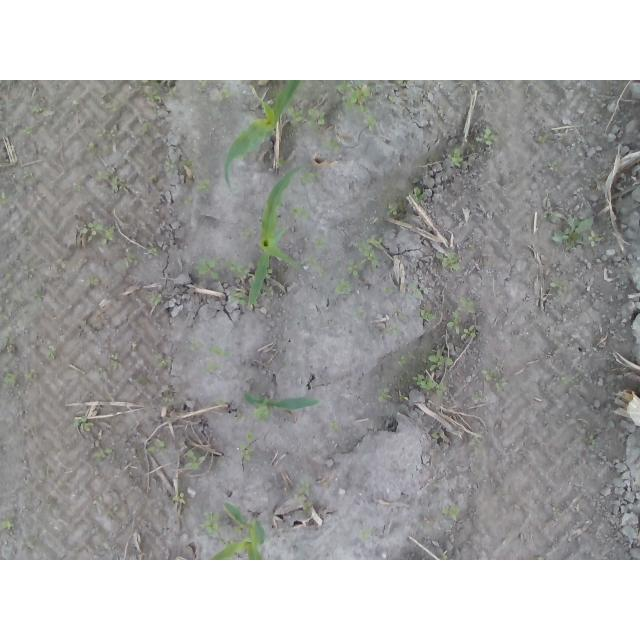Maize: (225, 81, 303, 192), (247, 166, 302, 306), (206, 504, 267, 561), (242, 392, 319, 413)
Weeds: (552, 216, 593, 251), (335, 81, 373, 112), (411, 372, 449, 396), (81, 220, 116, 244), (94, 170, 126, 193), (481, 368, 507, 396), (354, 240, 379, 269), (223, 258, 254, 279), (354, 105, 378, 132), (194, 256, 221, 280), (427, 350, 455, 371), (303, 253, 325, 277), (435, 250, 461, 270), (200, 511, 220, 537), (183, 450, 206, 470), (293, 479, 312, 501), (467, 429, 485, 452), (475, 128, 498, 145), (253, 405, 272, 424), (298, 171, 322, 186), (448, 147, 465, 168), (74, 416, 95, 433), (447, 309, 461, 334), (457, 296, 476, 314), (307, 107, 326, 125), (405, 284, 426, 300), (418, 306, 439, 322), (386, 199, 404, 217), (334, 277, 352, 295), (291, 204, 310, 221), (345, 258, 362, 276), (324, 135, 341, 153), (286, 107, 302, 126), (442, 507, 462, 522), (154, 354, 174, 369), (92, 447, 113, 461), (101, 91, 116, 110), (143, 87, 162, 102), (239, 445, 255, 462), (230, 291, 248, 306), (549, 280, 568, 294), (202, 360, 220, 374), (460, 325, 476, 340), (124, 253, 140, 268), (411, 186, 425, 203), (384, 324, 401, 338), (197, 179, 212, 194), (376, 387, 392, 401), (588, 230, 601, 247), (147, 440, 165, 452), (22, 264, 36, 279), (164, 160, 180, 173), (367, 235, 383, 248), (208, 347, 228, 357), (173, 491, 187, 505), (359, 528, 374, 541), (138, 118, 150, 134), (391, 307, 405, 320), (302, 501, 315, 515), (217, 90, 231, 103), (313, 236, 327, 249), (0, 517, 14, 530), (150, 291, 163, 305), (86, 141, 98, 156), (109, 354, 120, 370), (85, 277, 101, 288), (189, 340, 203, 352), (97, 130, 115, 139), (4, 372, 17, 384), (234, 522, 245, 536), (47, 345, 58, 359), (134, 377, 151, 386), (220, 539, 237, 548), (548, 212, 560, 224), (547, 160, 558, 173), (277, 156, 288, 169), (216, 397, 229, 408), (161, 395, 175, 405), (397, 357, 409, 368), (470, 393, 482, 404), (396, 391, 408, 402), (197, 81, 209, 92), (35, 291, 46, 303), (263, 285, 274, 297), (538, 133, 551, 143), (106, 505, 119, 515), (31, 106, 47, 114), (245, 431, 255, 443), (430, 432, 446, 439), (0, 191, 8, 205), (329, 421, 340, 431), (587, 435, 598, 445), (383, 286, 394, 296), (57, 258, 67, 269), (22, 126, 34, 135), (561, 376, 572, 385), (168, 86, 179, 95), (183, 196, 194, 205), (241, 230, 252, 239), (180, 158, 194, 165), (418, 525, 432, 532), (388, 94, 398, 103), (25, 369, 35, 378), (266, 268, 275, 278), (102, 145, 112, 154), (234, 413, 245, 421), (138, 80, 159, 84), (149, 174, 159, 182), (439, 553, 450, 560), (147, 247, 158, 254), (573, 373, 581, 382), (354, 310, 363, 318), (6, 272, 14, 280), (26, 540, 35, 547), (392, 80, 404, 85), (23, 171, 29, 178)
